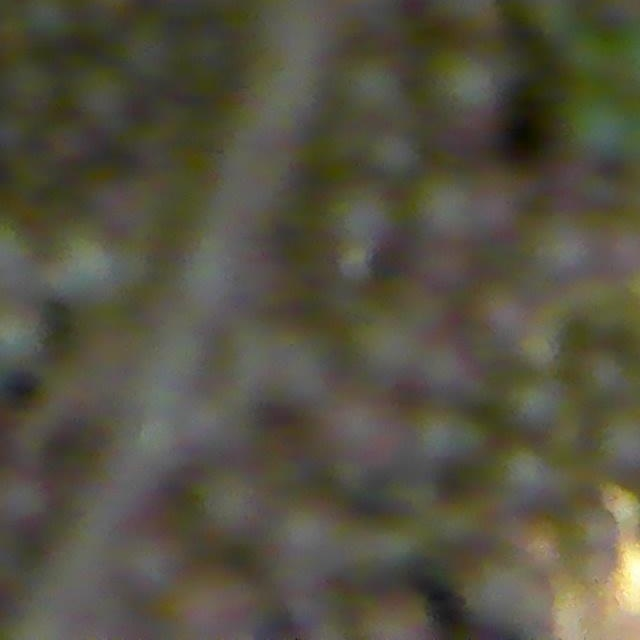SeaGrape: (422, 48, 508, 137), (519, 208, 612, 287), (270, 505, 351, 581), (314, 387, 394, 461), (323, 181, 401, 255), (563, 87, 638, 163), (194, 468, 267, 543), (403, 180, 487, 244), (338, 53, 405, 119), (68, 63, 134, 129), (397, 242, 476, 290), (0, 53, 58, 116), (471, 285, 535, 341), (365, 127, 420, 181), (16, 0, 80, 45)
